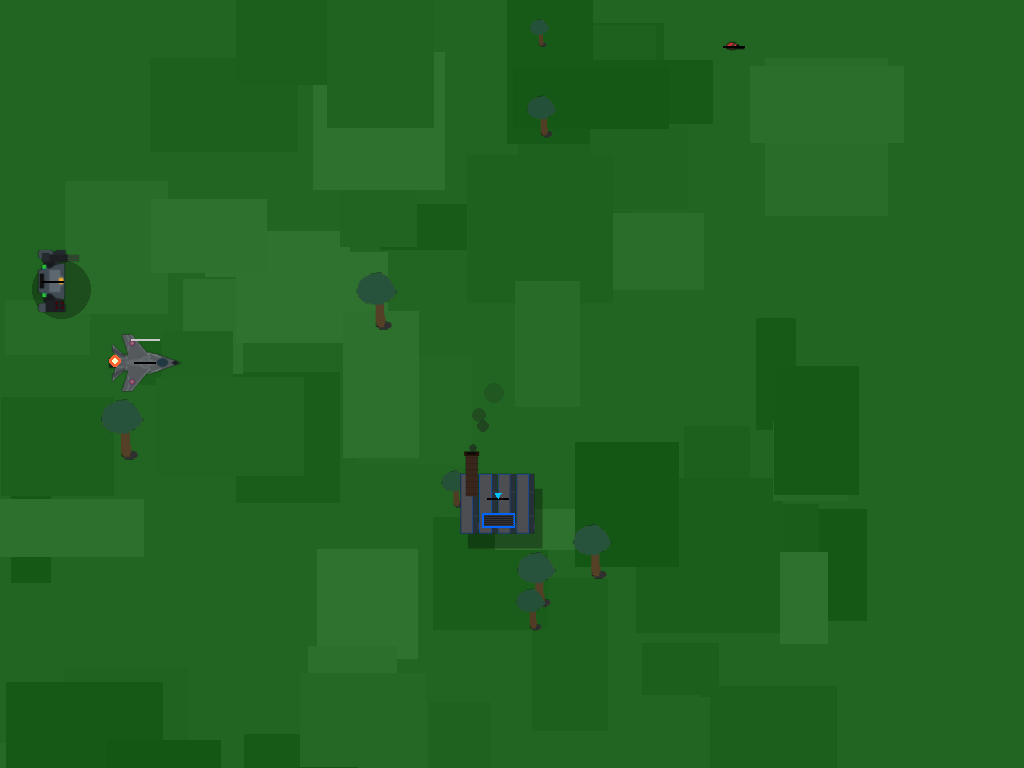AntiAirTurret: (447, 446, 548, 547)
Bastion: (29, 256, 76, 303)
HIMARS: (124, 340, 165, 381)
Sniper: (719, 30, 748, 59)
